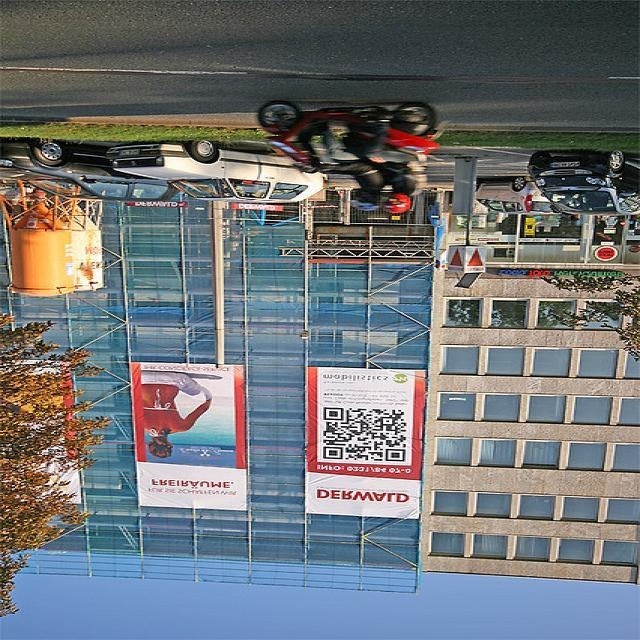qr-code: (323, 408, 404, 462)
